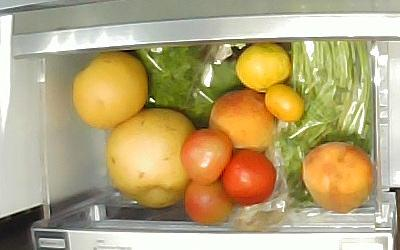peach: (302, 142, 373, 213), (209, 88, 277, 154)
pear: (106, 108, 195, 207), (72, 51, 148, 128)
tangerine: (236, 42, 291, 92), (265, 84, 303, 123)
tomato: (221, 149, 276, 207), (180, 128, 232, 184), (183, 180, 231, 226)
